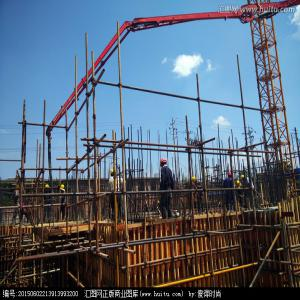red: (161, 159, 169, 169), (228, 173, 233, 179)
yellow: (111, 169, 117, 178), (237, 181, 242, 189), (193, 177, 198, 184), (46, 185, 50, 192), (61, 186, 65, 193), (242, 176, 246, 182)
